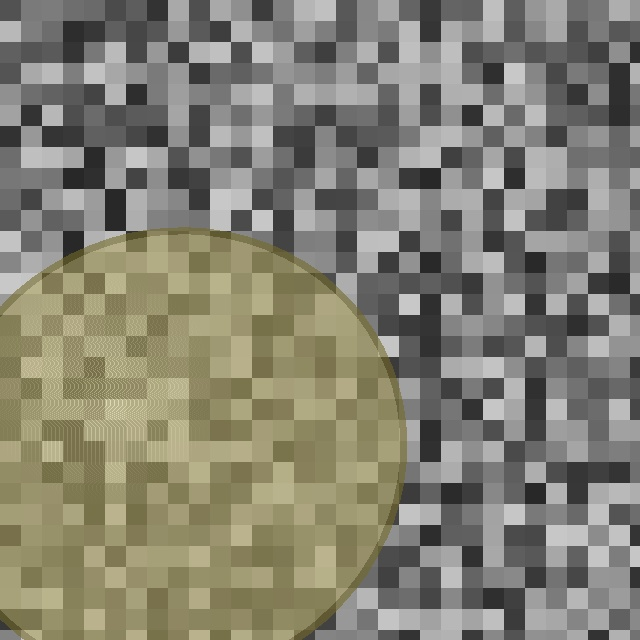lens: (0, 230, 403, 640)
